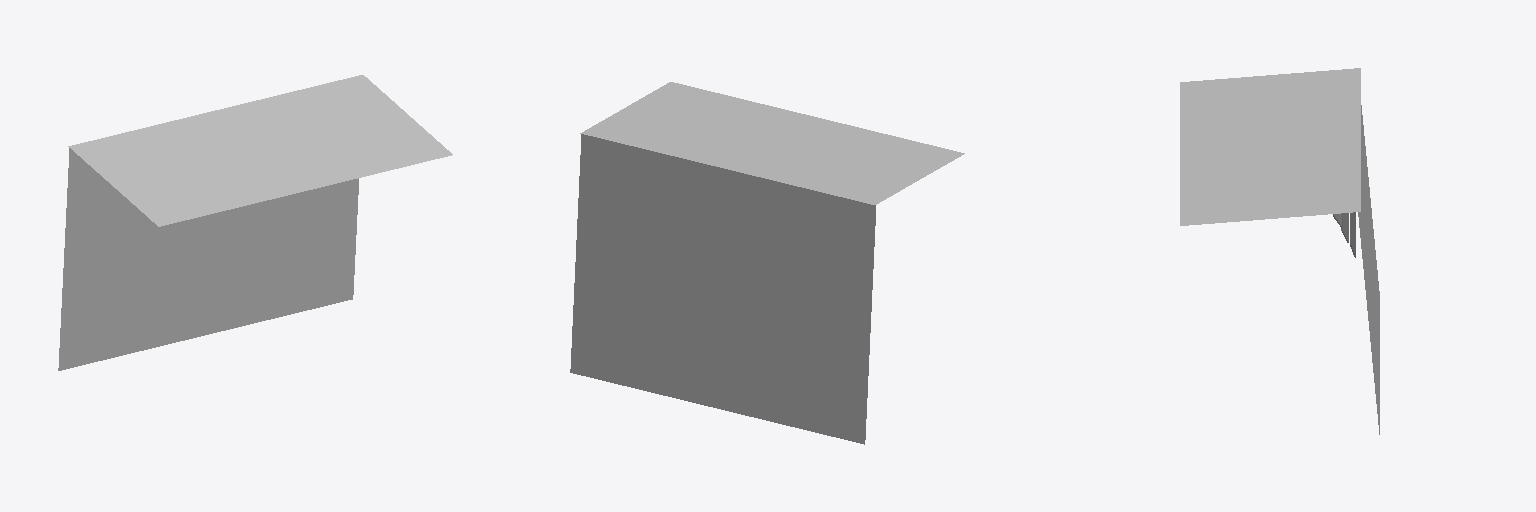
Rendered from scene02_modified.obj.
3 views of the same model, side by side, from view 1: azimuth 30°, elevation 25°; view 2: azimuth 150°, elevation 25°; view 3: azimuth 270°, elevation 25° (orthographic).
Parts seen in each view (by area): view 1: pPlane1, pPlane2; view 2: pPlane1, pPlane2; view 3: pPlane2, pPlane1.
Part boxes in pixels (x1,y1,x2,y2): pPlane1: (58, 148, 358, 370); pPlane2: (68, 75, 452, 226); pPlane1: (570, 134, 875, 444); pPlane2: (580, 82, 964, 204); pPlane2: (1180, 68, 1360, 225); pPlane1: (1358, 105, 1379, 434).
Bounding box in the file's own units: 4.43 × 3.33 × 2.61.